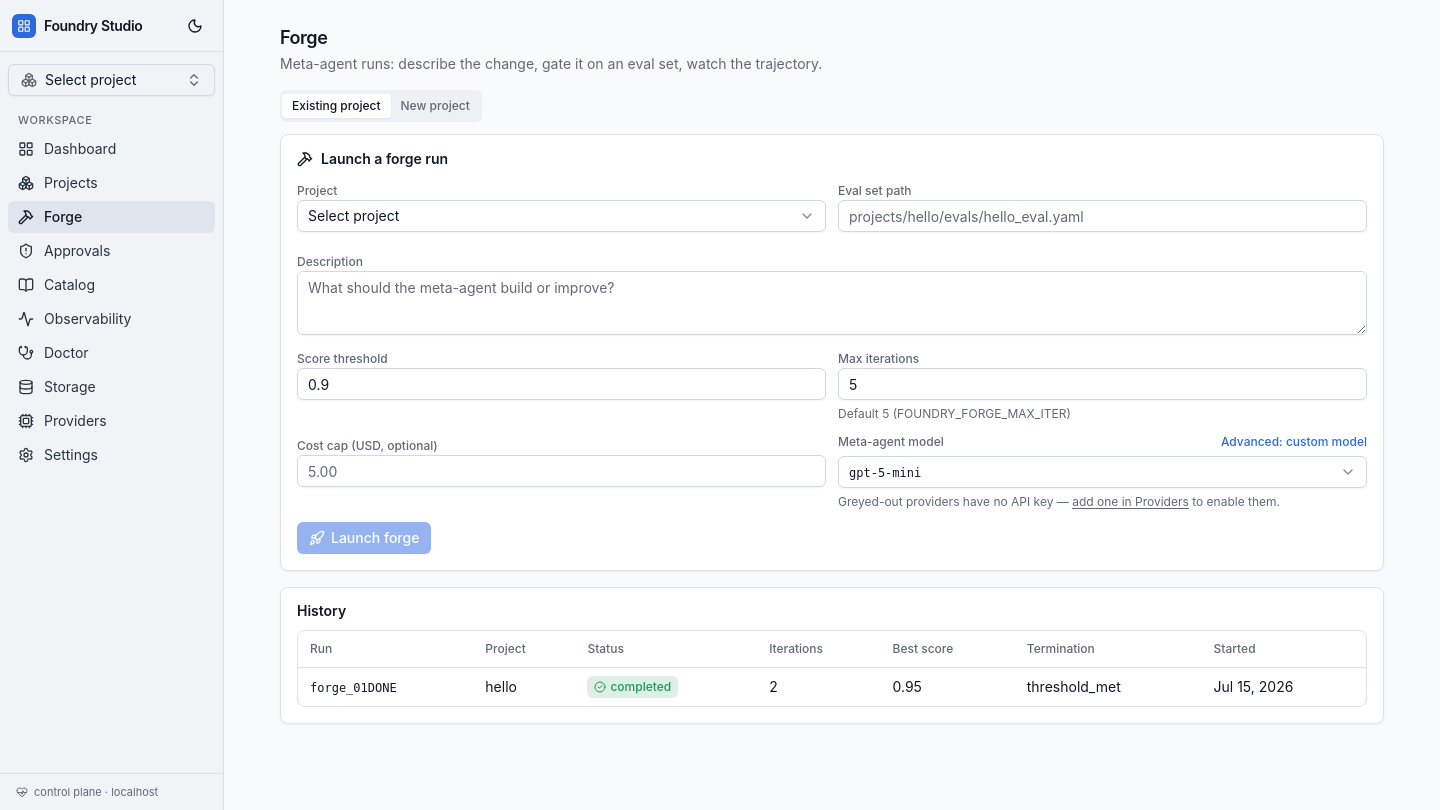
forge model select › disables providers without a key and links their group to /providers
Click the dropdown named "Meta-agent model".
click(885, 473)  # box [838, 456, 1367, 488]
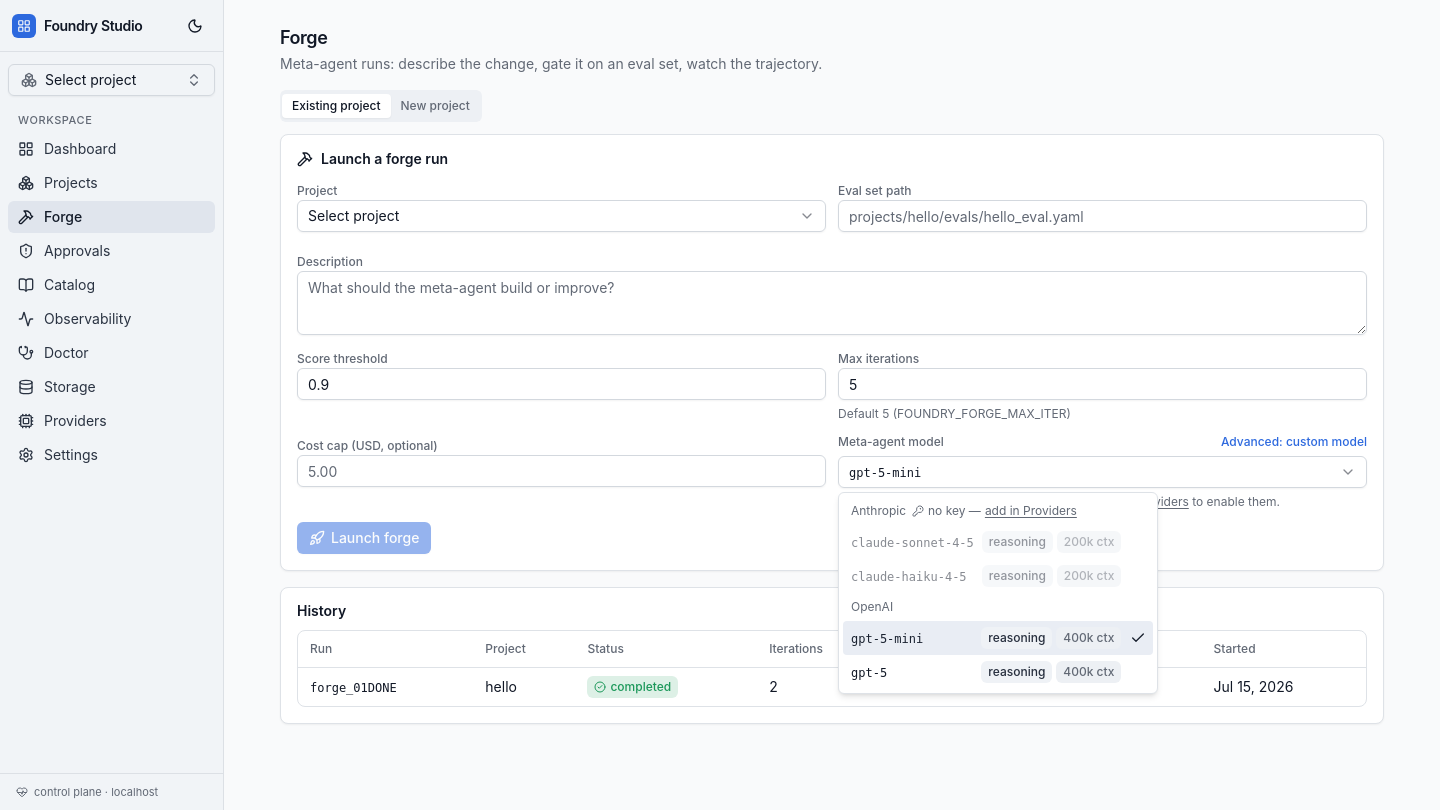
Expected: the 3rd text "reasoning" is shown, [981, 627, 1052, 649]
Expected: the 1st text "400k ctx" is shown, [1056, 627, 1121, 649]
Expected: the text "no key — add in Providers" is shown, [912, 503, 1077, 519]
